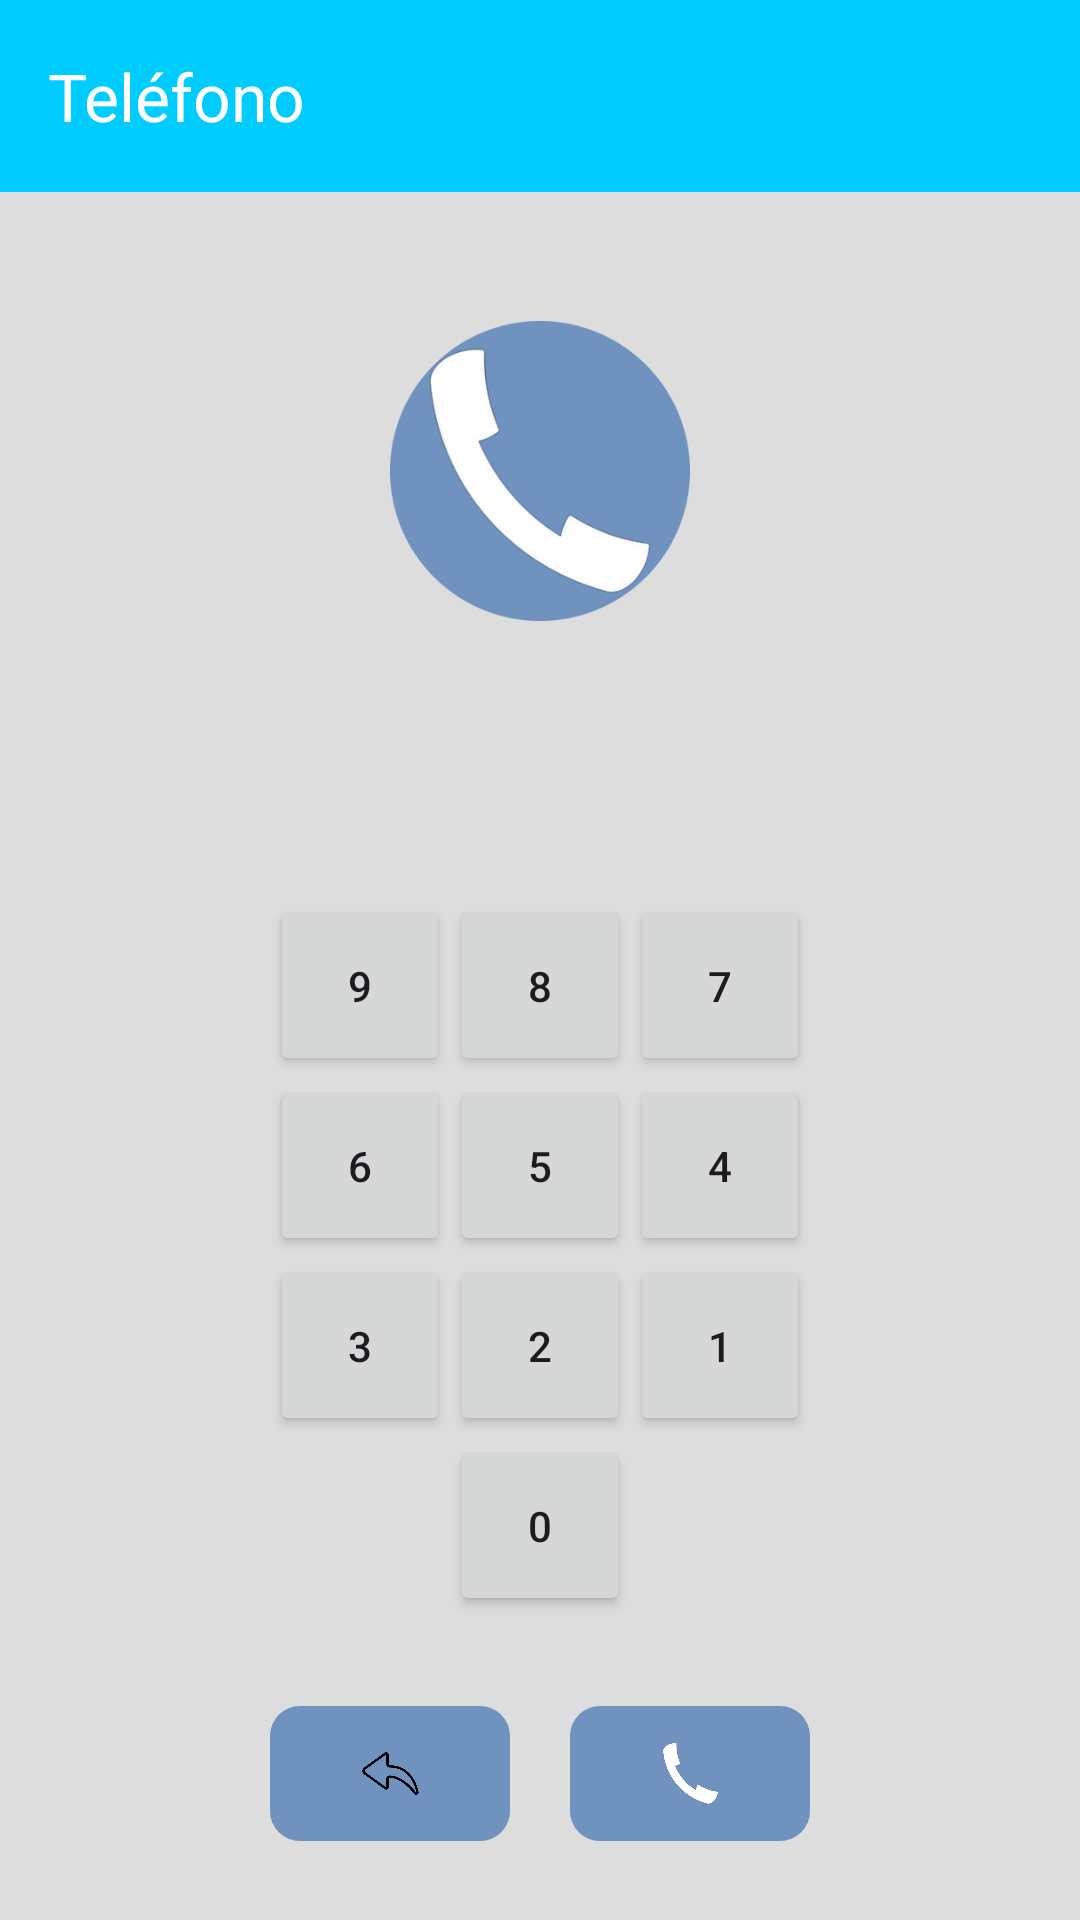

Screen size 1080*1920. Icon name, then its box in pixels as (x1, y1, x2, y2):
flechavolveratras: (270, 1706, 510, 1841)
